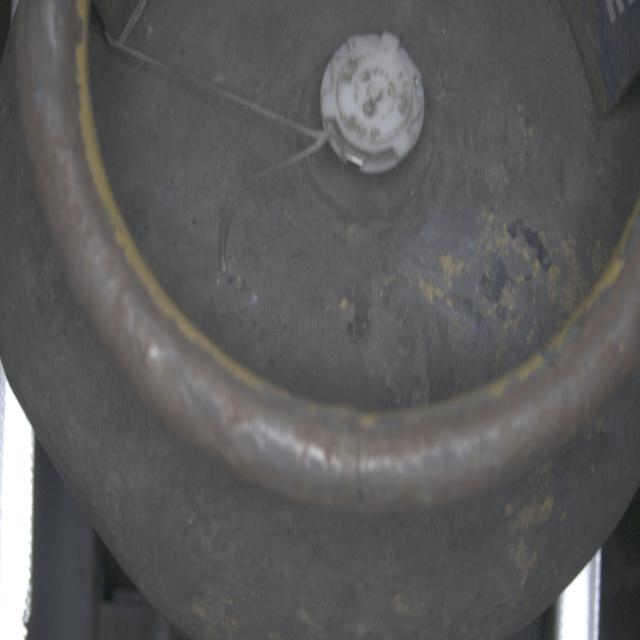Cap: (321, 32, 429, 172)
